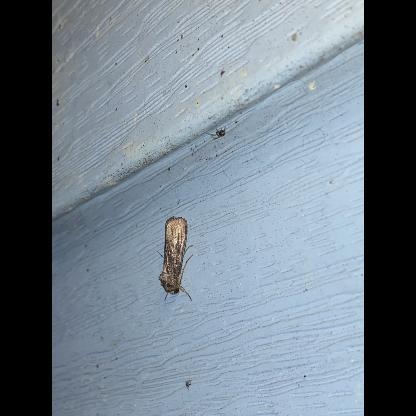Fall Armyworm Moth: (154, 214, 196, 302)
